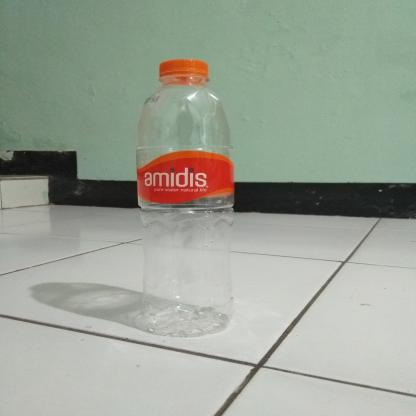bottle: (132, 55, 239, 339)
